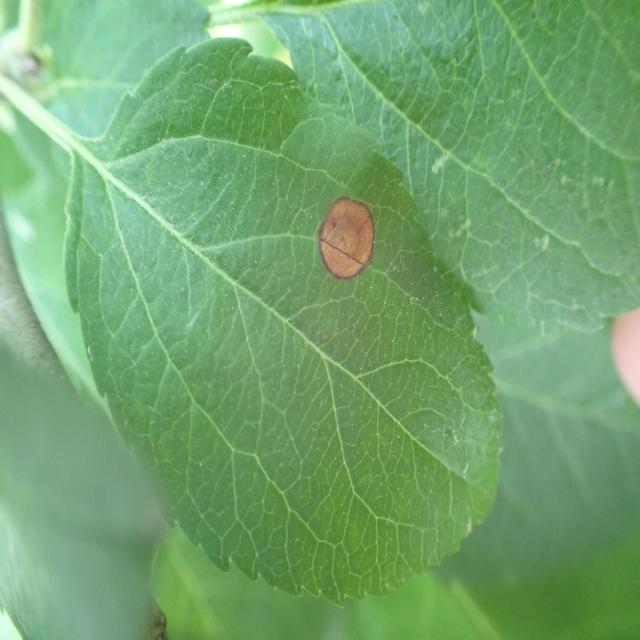frog-eye-leaf-spot: (61, 38, 503, 608)
